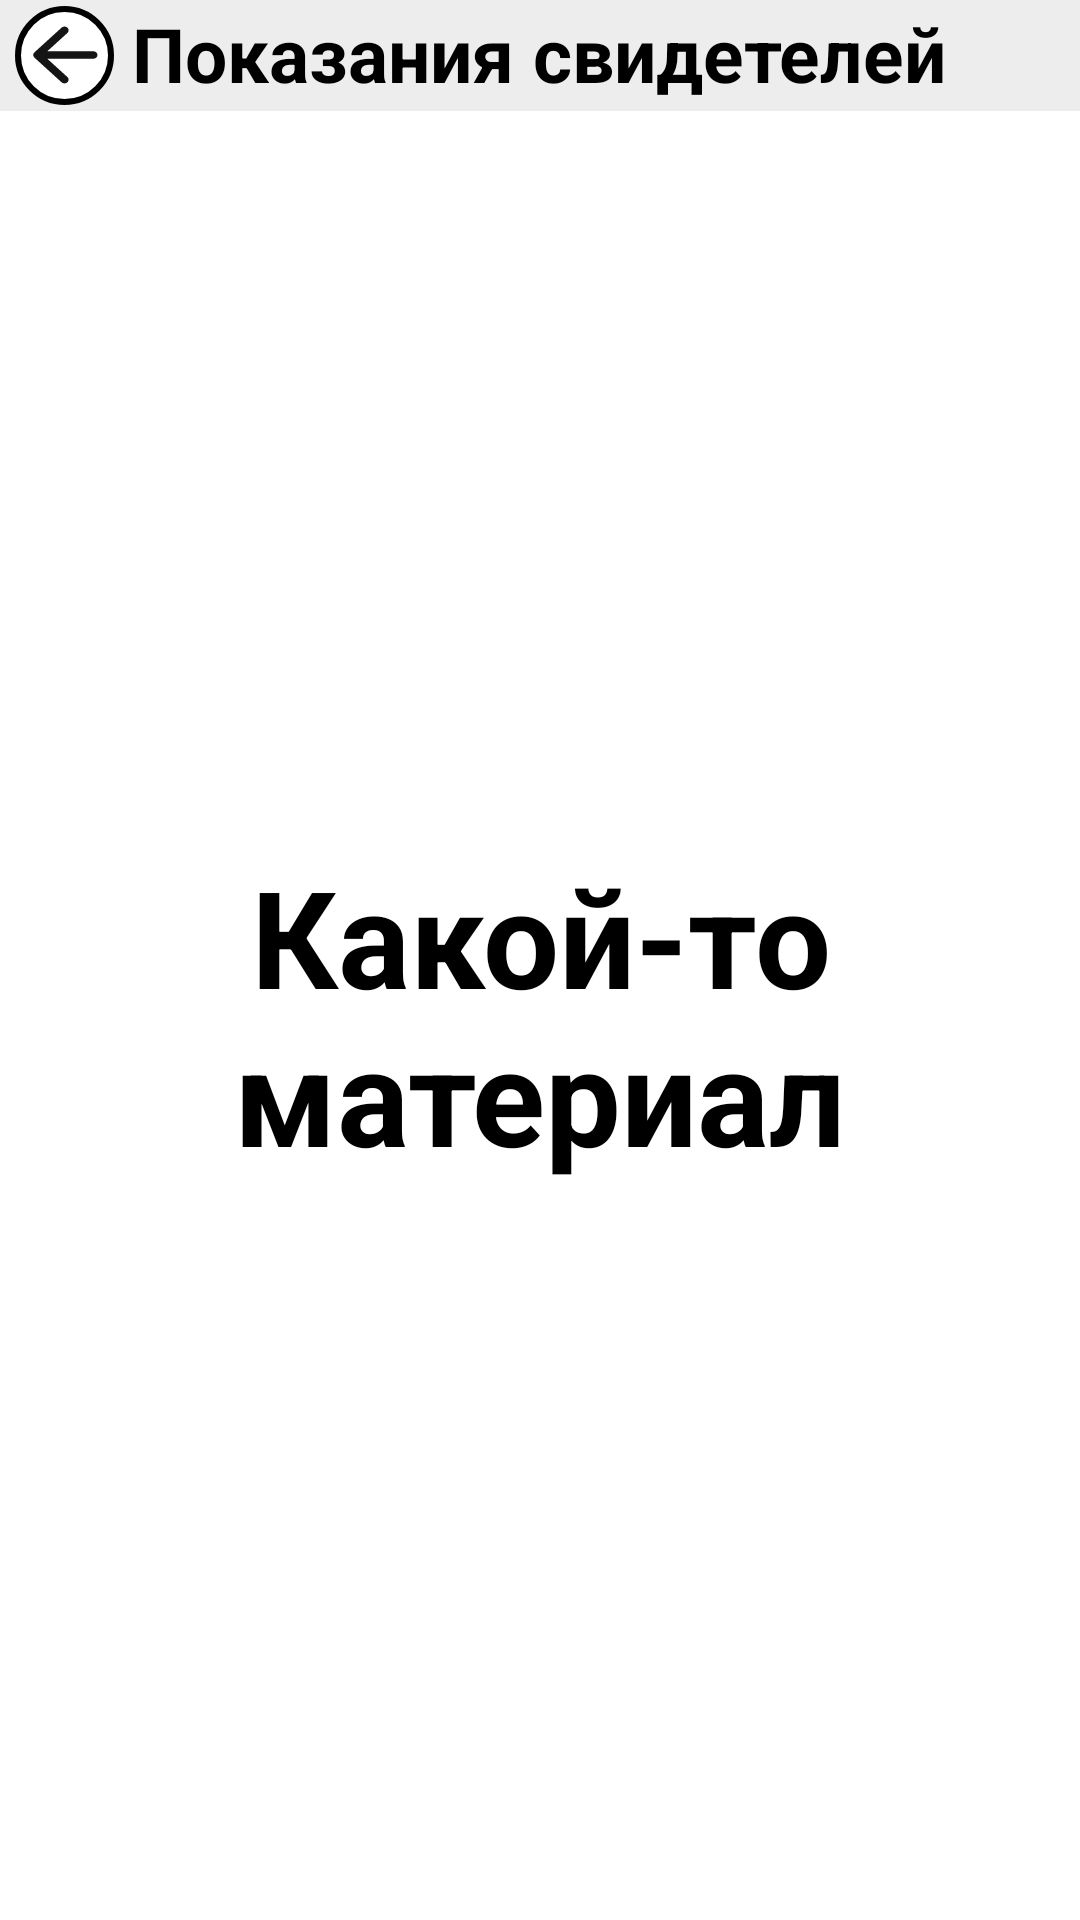

Icon bounding boxes for this 1080px×1920px phone screenshot, format (x1, y1, x2, y2):
arrow back: (15, 10, 114, 100)
